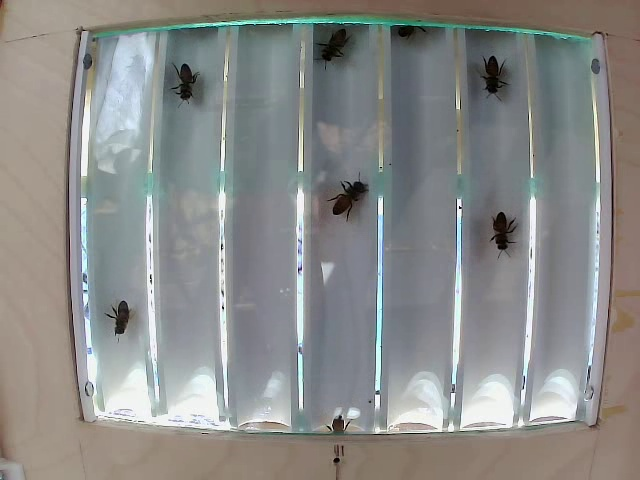bee: (327, 156, 366, 216), (479, 196, 513, 256), (169, 63, 208, 115), (328, 29, 365, 80), (96, 293, 141, 332), (473, 59, 509, 93)
